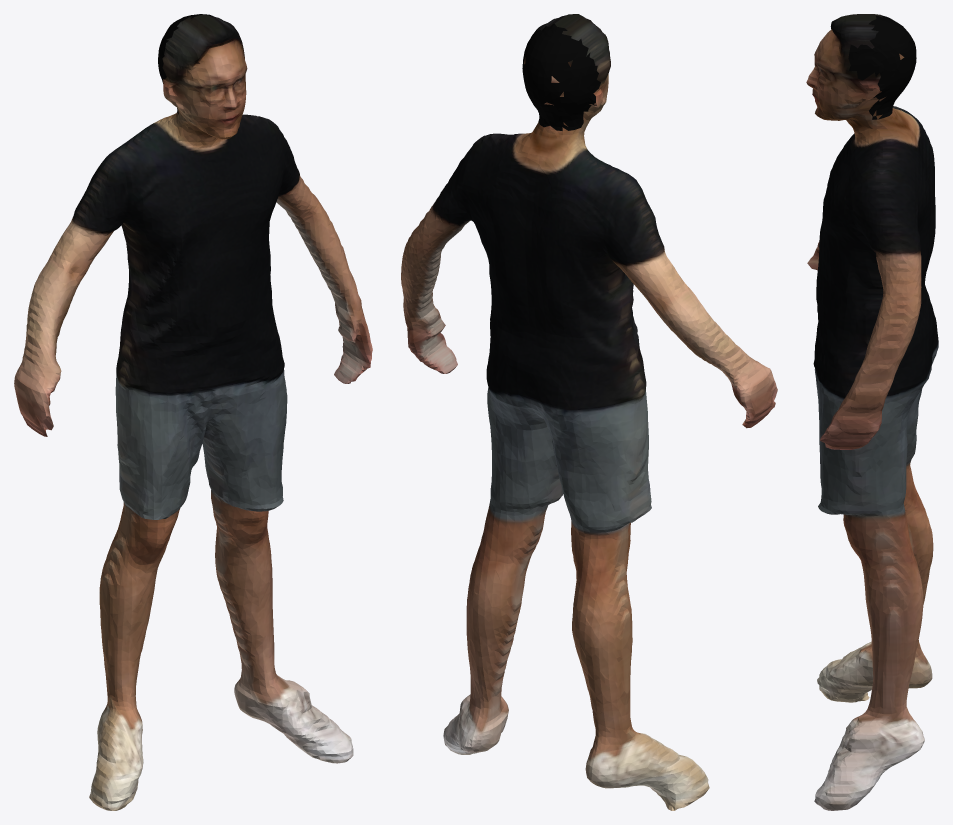
3 views of the same model, side by side, from view 1: azimuth 30°, elevation 25°; view 2: azimuth 150°, elevation 25°; view 3: azimuth 270°, elevation 25° (orthographic). The views are drawn at different scales.
Parts seen in each view (by area): view 1: result_IMG_1692-removebg-preview_256; view 2: result_IMG_1692-removebg-preview_256; view 3: result_IMG_1692-removebg-preview_256.
Boxes of the visible parts, box(x1,y1,x2,y2) form: result_IMG_1692-removebg-preview_256: box(14, 14, 372, 810); result_IMG_1692-removebg-preview_256: box(401, 14, 777, 810); result_IMG_1692-removebg-preview_256: box(806, 14, 938, 810).
Bounding box in the file's own units: 81.3 × 172 × 28.08.
